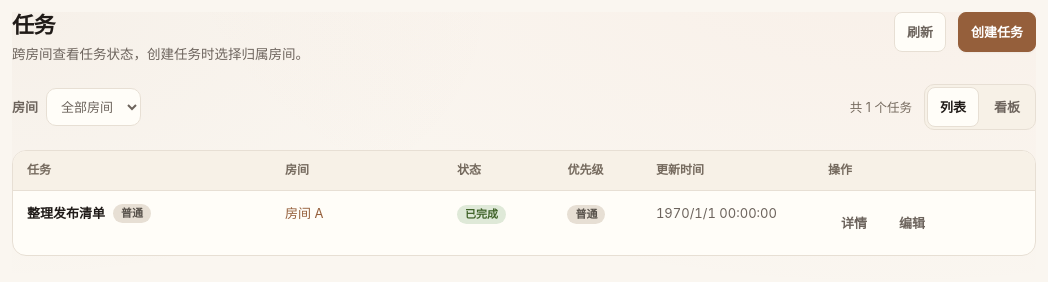
Scenario: TasksPage 右键菜单 › 不可启动的任务没有启动编排且不尾随分隔符
Right-click the text "整理发布清单" at (66, 213), box [13,190,1035,255]
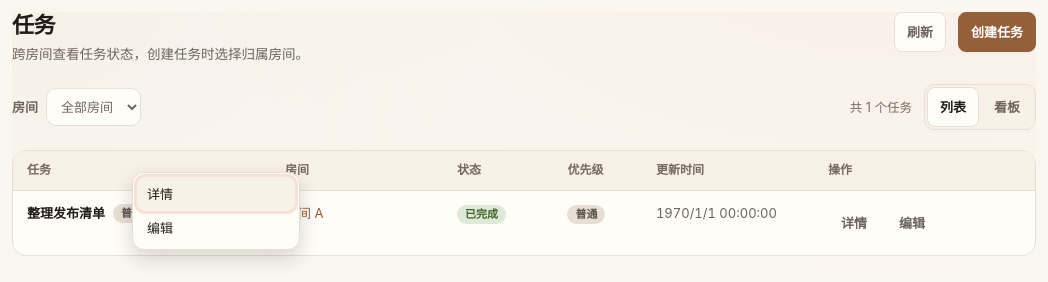
Now the menu item "编辑" is shown, box [137,211,295,245]
